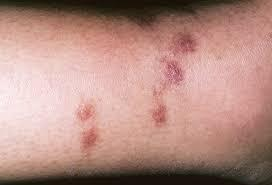Spider: (161, 54, 185, 88), (172, 28, 196, 53), (80, 126, 100, 154), (150, 99, 167, 126), (75, 99, 94, 121)
